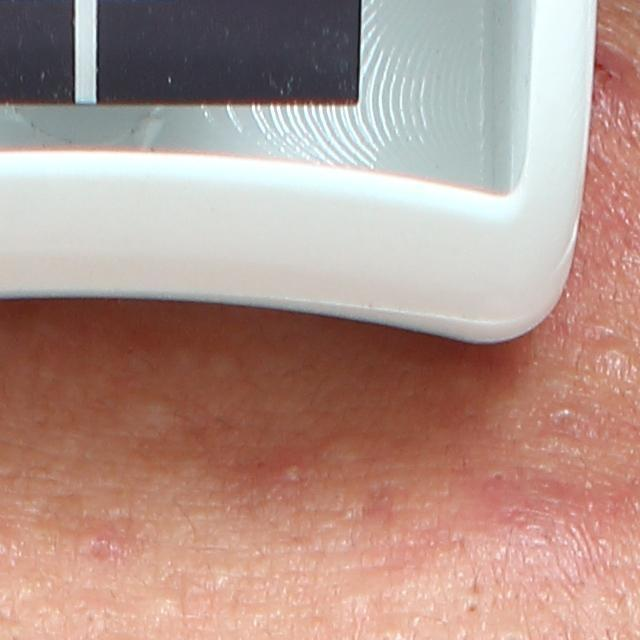comedo: (131, 393, 178, 437), (151, 591, 183, 621), (464, 597, 486, 616), (489, 468, 507, 483)
pustule: (269, 453, 315, 490)
